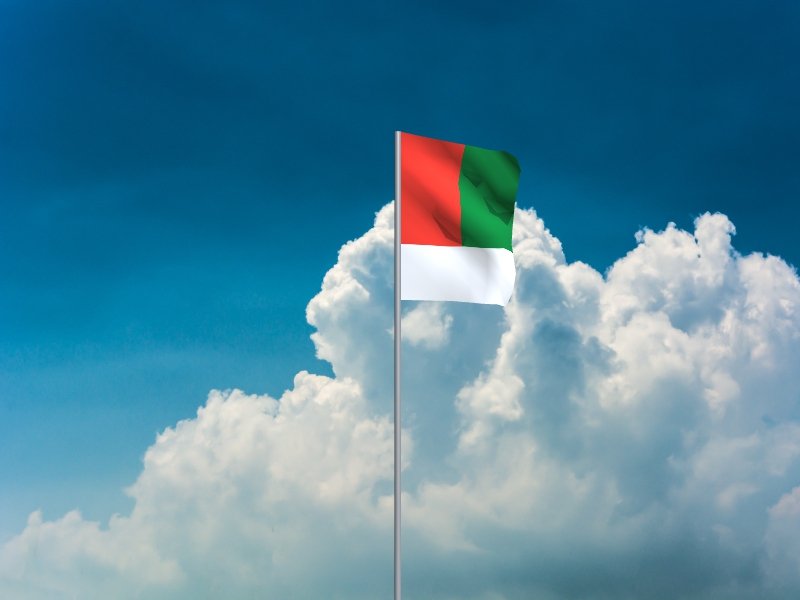mg: (402, 133, 522, 308)
